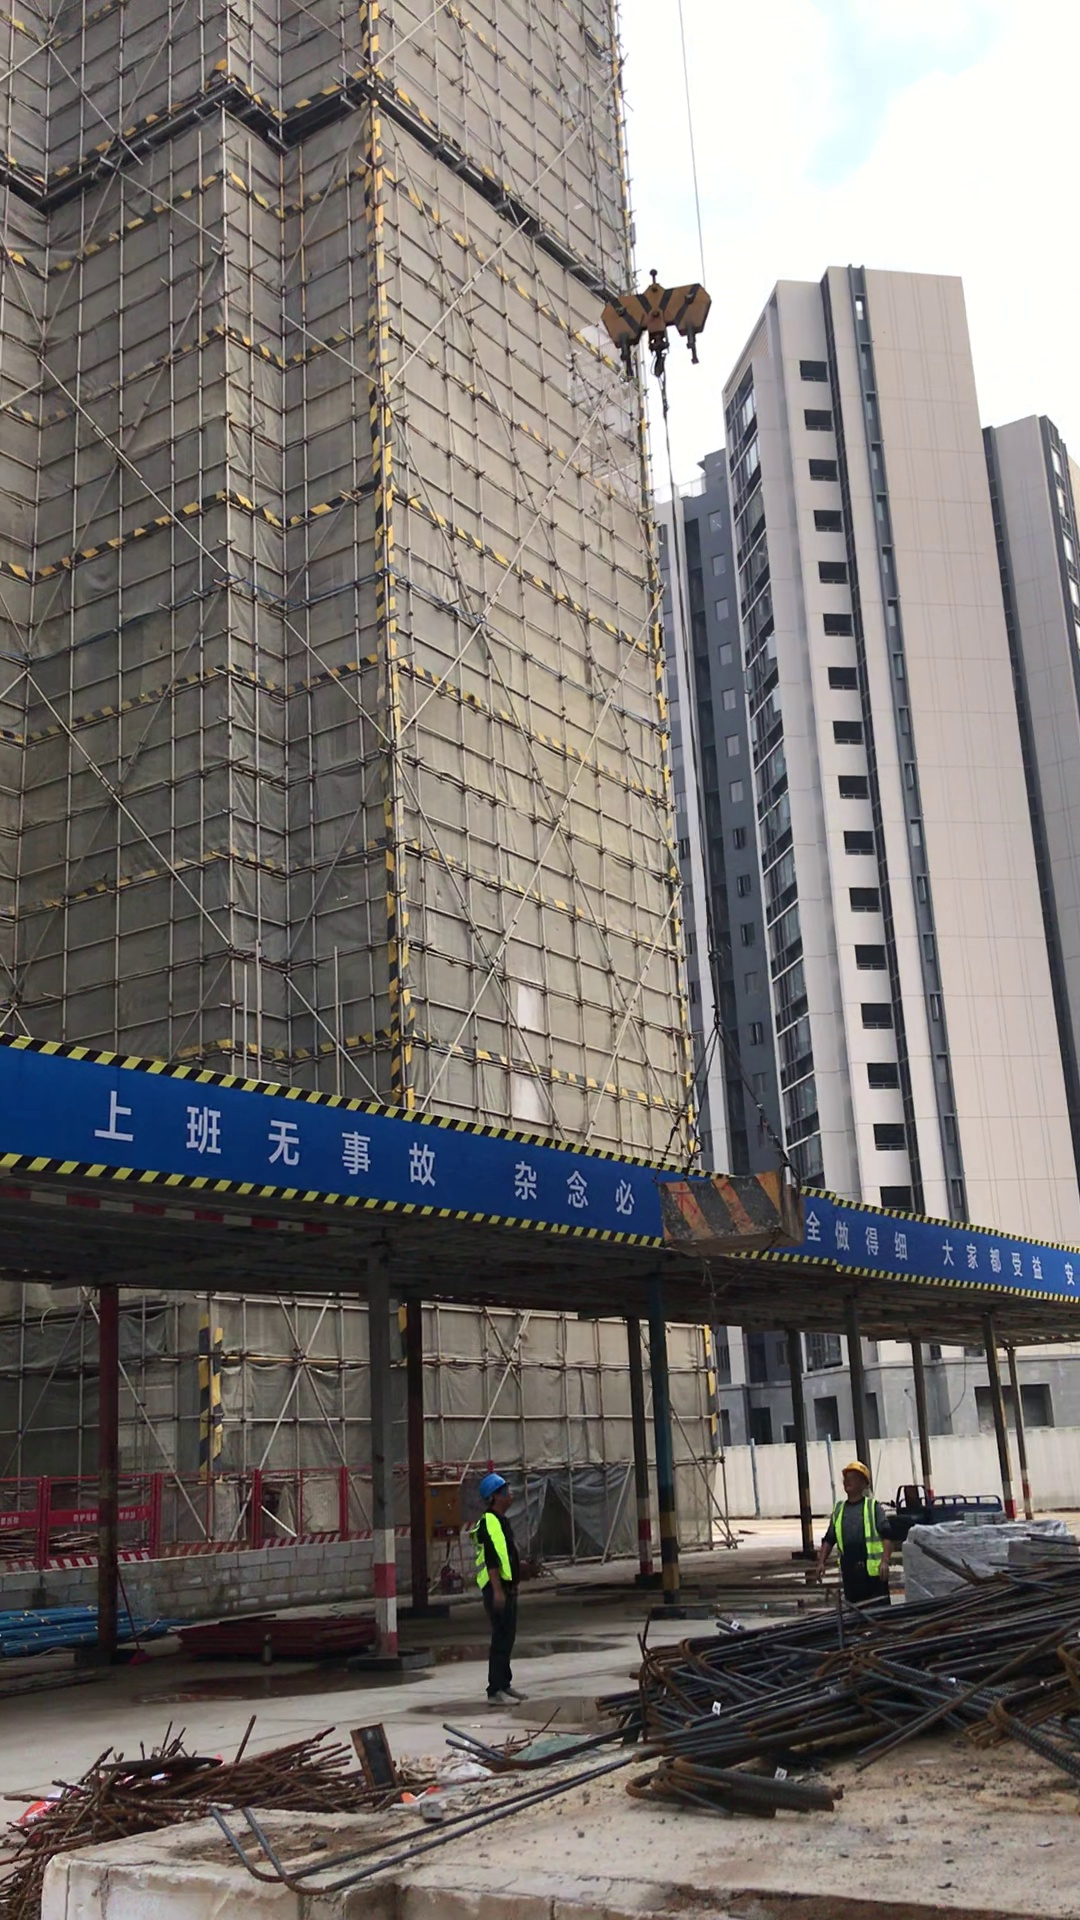fence: (1, 1462, 484, 1574)
helmet: (839, 1458, 878, 1489), (479, 1466, 513, 1497)
hook: (595, 259, 720, 367)
hopper: (649, 1169, 813, 1253)
person: (453, 1457, 535, 1704), (800, 1457, 904, 1612)
slogan: (12, 1030, 1080, 1298)
vest: (832, 1499, 886, 1580), (474, 1510, 521, 1582)
